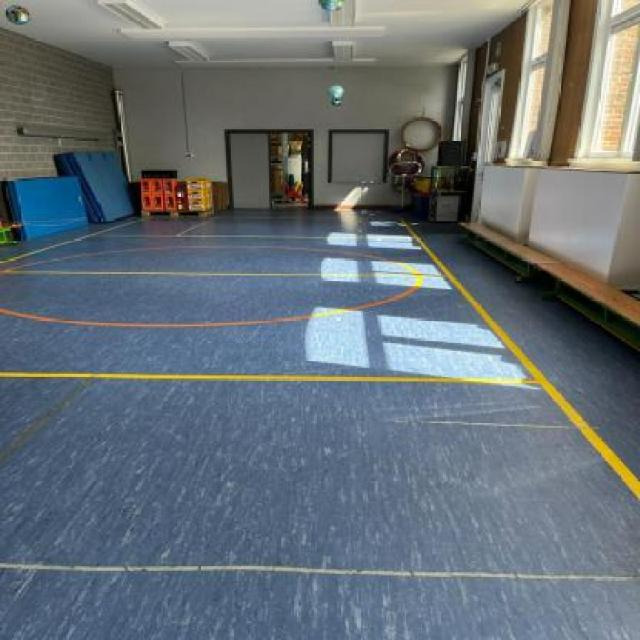Floor: (0, 203, 639, 640)
